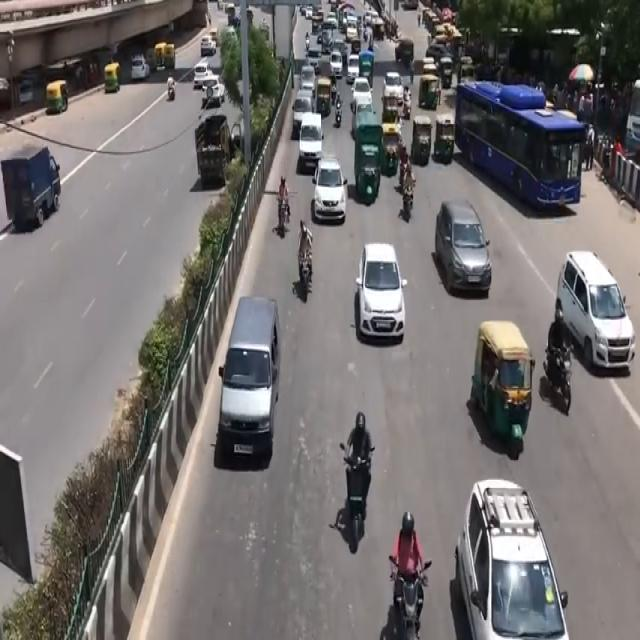BUS: (455, 75, 582, 221)
MOTORCYCLE: (341, 454, 372, 562), (390, 566, 430, 640), (550, 344, 576, 416), (398, 170, 415, 229), (300, 253, 314, 306)
